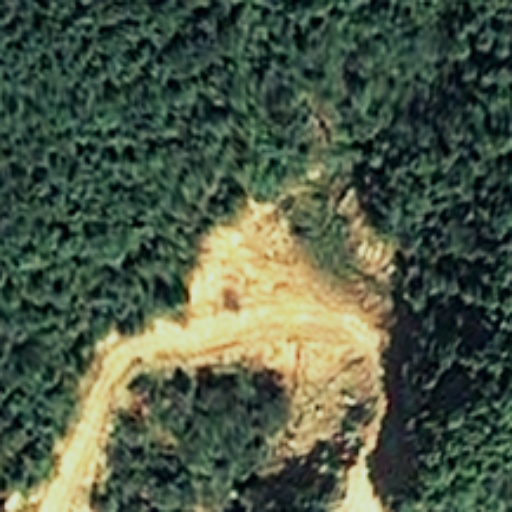landslide: (189, 203, 346, 304)
